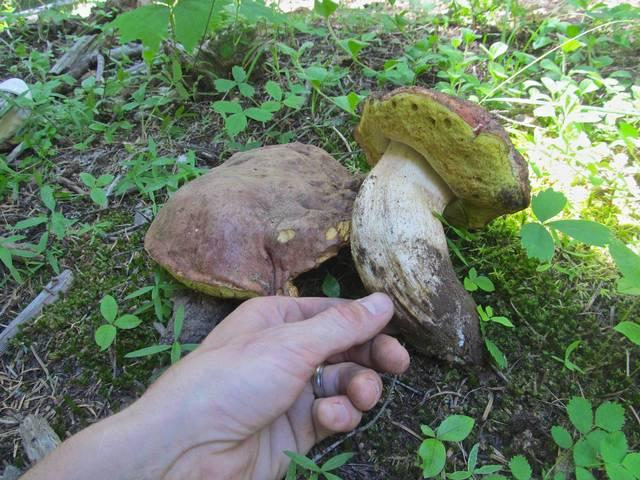Edible Mushroom: (348, 84, 531, 369), (145, 142, 355, 294)
